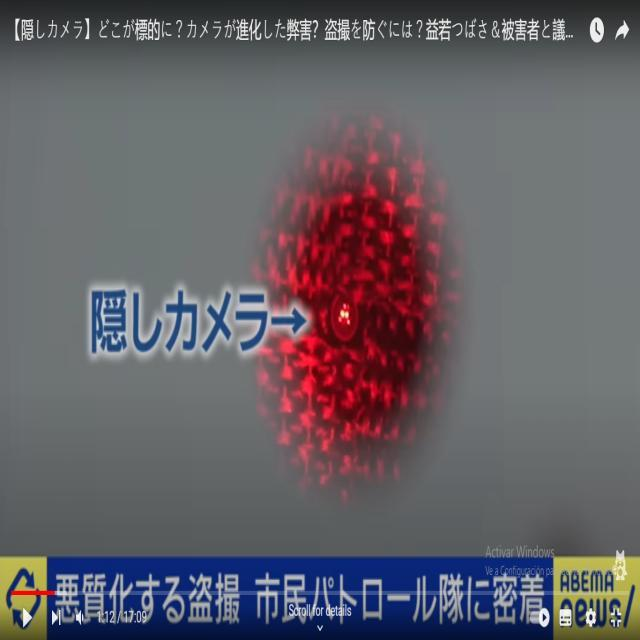hidden camera: (333, 292, 360, 342)
